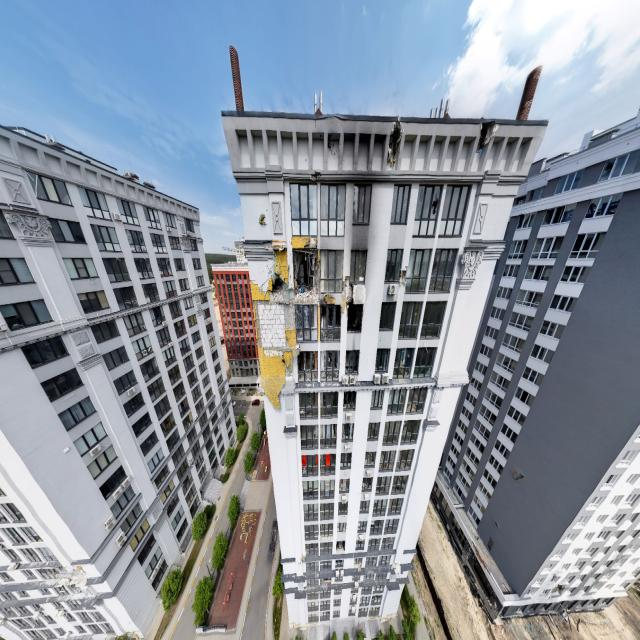building: (219, 49, 549, 630), (0, 123, 237, 638), (433, 107, 639, 622)
